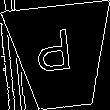P_S: (39, 30, 82, 83)
